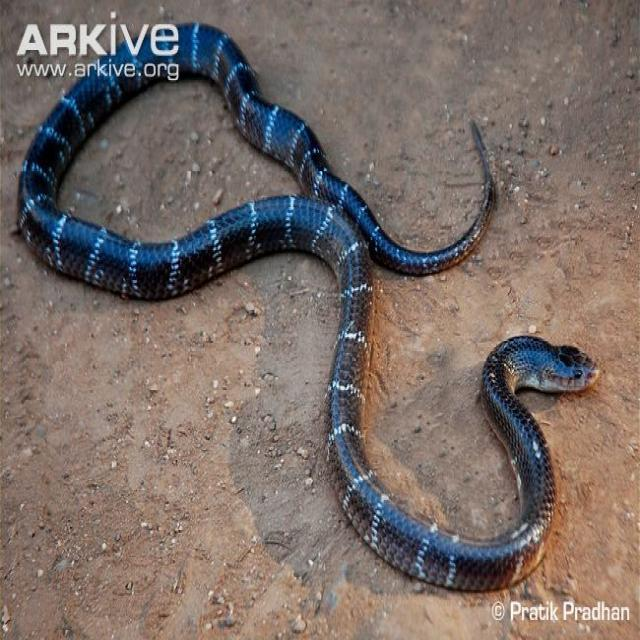Snake: (14, 20, 600, 593)
